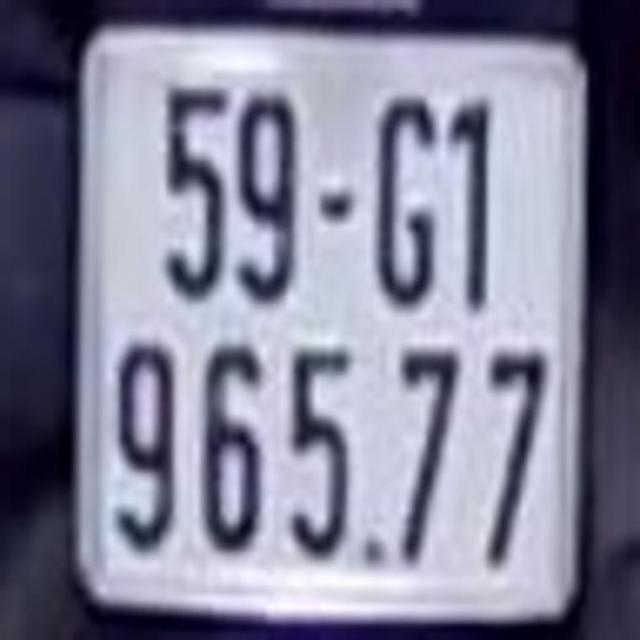1: (446, 113, 501, 305)
5: (162, 86, 228, 304), (283, 346, 349, 553)
6: (207, 343, 260, 554)
7: (478, 348, 542, 567), (402, 347, 449, 570)
9: (112, 344, 174, 546), (240, 98, 295, 304)
G: (374, 99, 438, 311)
